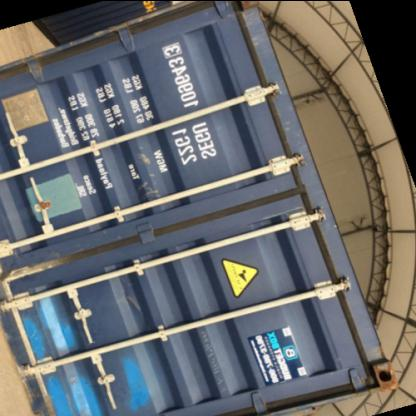Damage: (5, 249, 61, 288), (31, 376, 80, 415)
